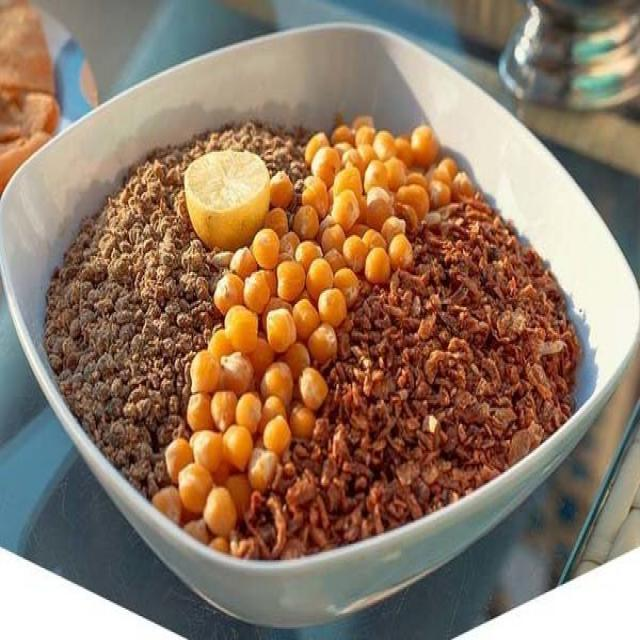koshary: (38, 115, 598, 563)
